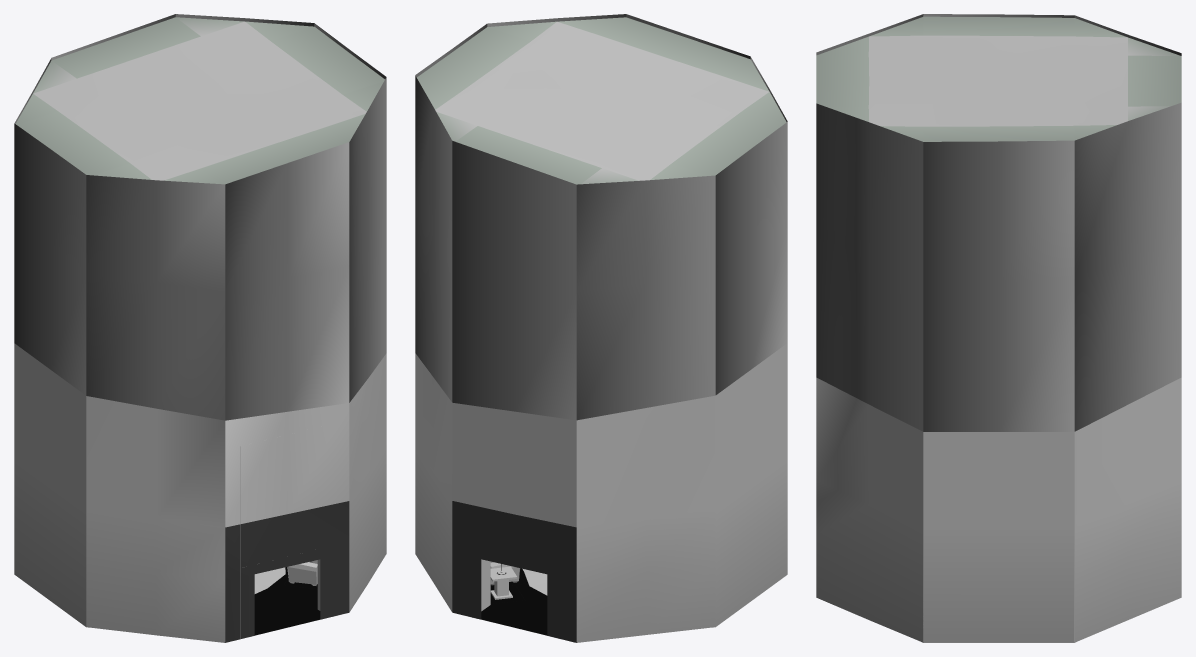
Rendered from office_hexagon_room.fbx.
The picture shows the model from 3 angles, left to right: view 1: azimuth 30°, elevation 25°; view 2: azimuth 150°, elevation 25°; view 3: azimuth 270°, elevation 25°; orthographic projection. The views are drawn at different scales.
Visible parts, largest first — view 1: walls, ceiling, floorshadow, chair_3; view 2: walls, ceiling, floorshadow, desk; view 3: walls, ceiling, bookcase.
Boxes of the visible parts, x1,y1,x2,y2 form: walls: [14, 14, 386, 642]; ceiling: [15, 17, 384, 184]; floorshadow: [254, 567, 320, 635]; chair_3: [284, 560, 317, 589]; walls: [415, 14, 787, 642]; ceiling: [417, 17, 786, 184]; floorshadow: [481, 568, 547, 635]; desk: [490, 564, 524, 603]; walls: [816, 14, 1181, 642]; ceiling: [816, 16, 1181, 141]; bookcase: [923, 440, 1074, 642].
Size of the model in its own units: 2199 by 3348 by 2206.
